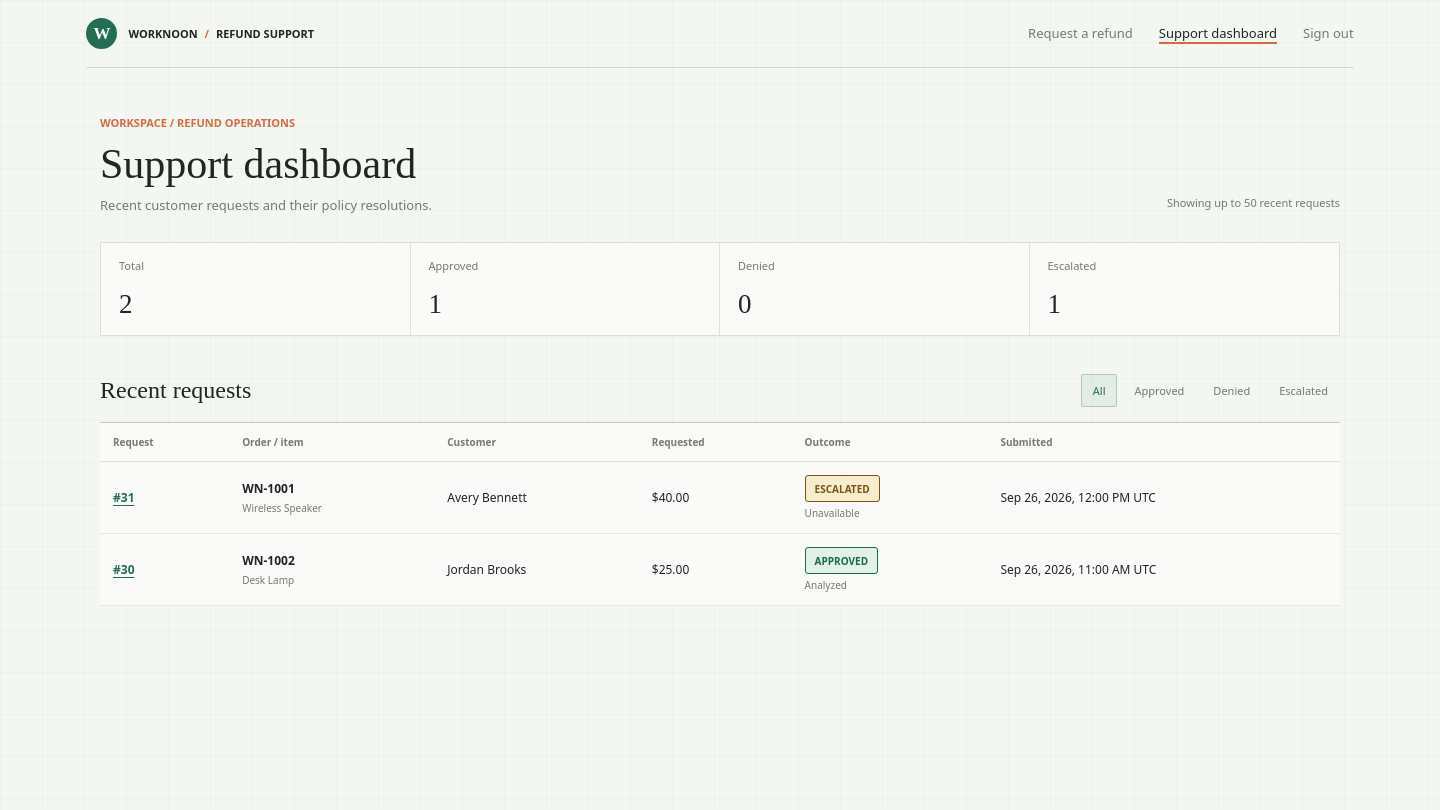
SupportDashboard › shows live request totals and filters recent requests by outcome
Expected: the text "Avery Bennett" is shown, [434,462,639,534]
Expected: the text "Total" is shown, [119,258,144,273]
What coordinates should you click on to do the following:
click the button "Approved"
I would click on:
 (1159, 390)
Its box is [1122,374,1196,407].
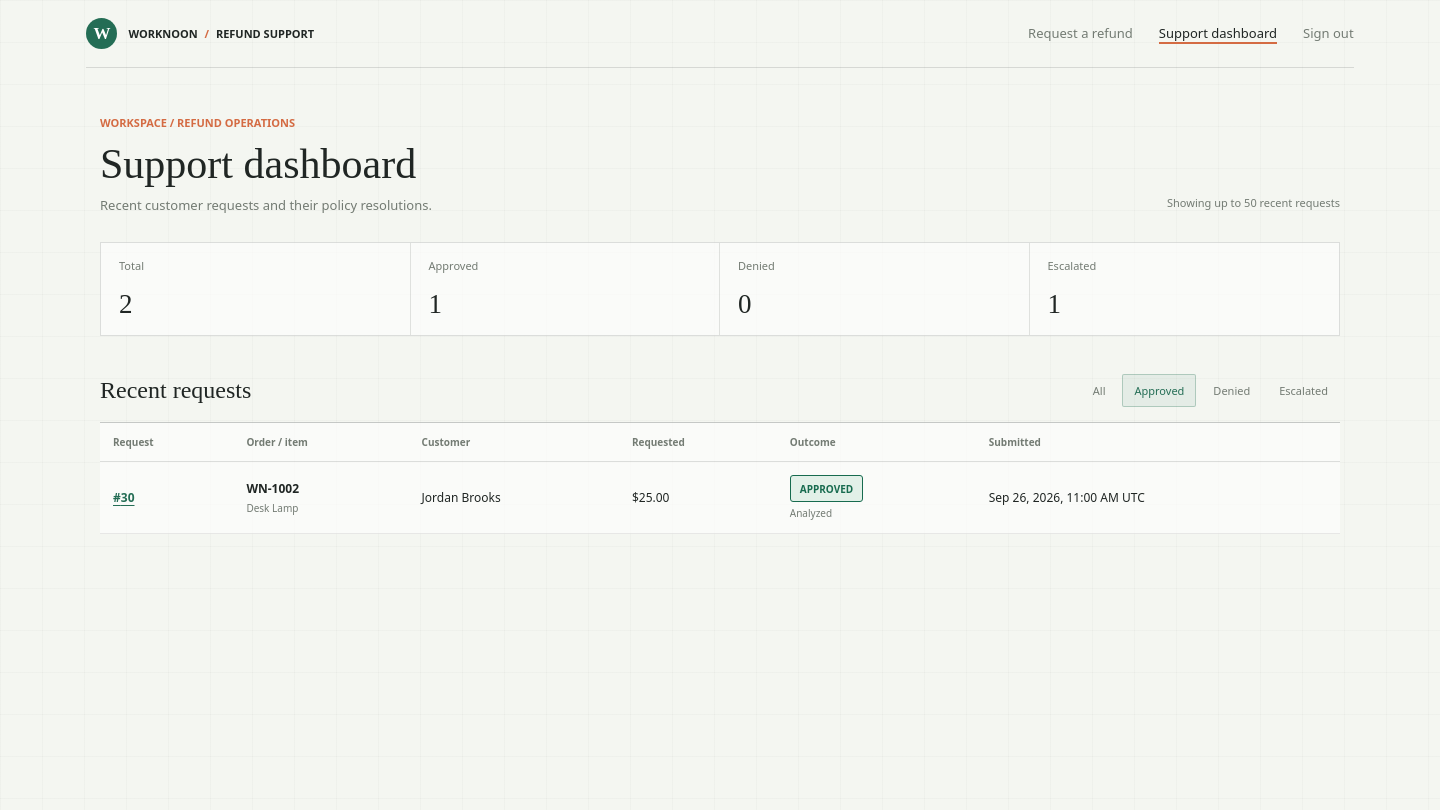
Expected: the text "WN-1002" is shown, [246,480,299,497]
Expected: the text "WN-1001" is gone
